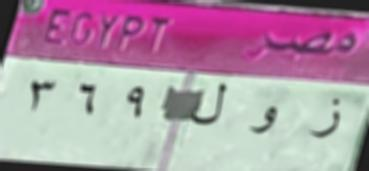3: (22, 76, 60, 117)
6: (72, 79, 106, 126)
9: (119, 83, 154, 122)
laam: (188, 77, 232, 132)
waw: (242, 102, 288, 141)
zay: (310, 92, 344, 148)
